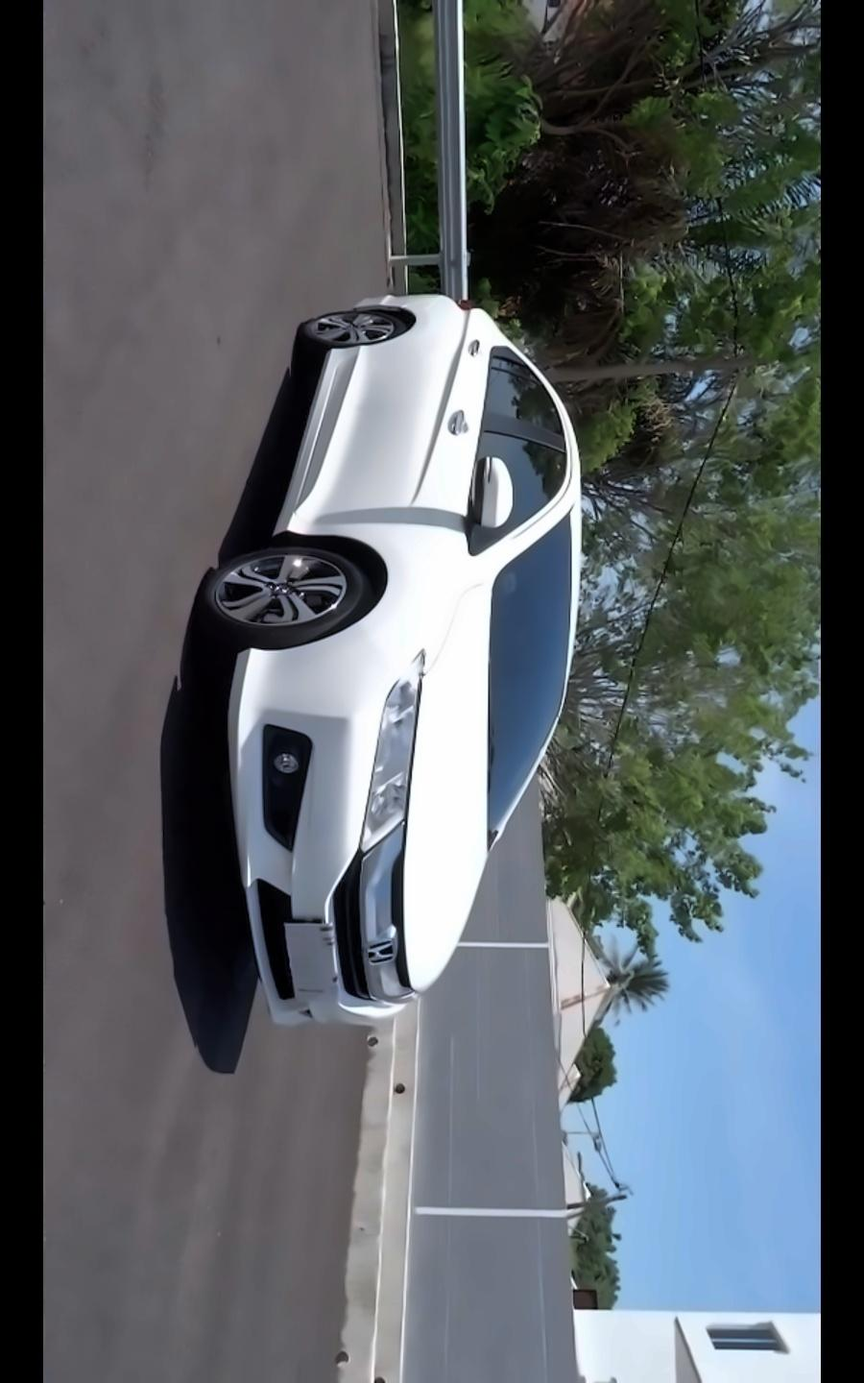Car hood: (398, 545, 496, 993)
Driver-s door - -F-R-: (246, 393, 580, 552)
Fender - -F-R-: (278, 502, 467, 687)
Fender - -R-R-: (330, 297, 505, 354)
Front bumper: (218, 620, 413, 1029)
Headlight - -R-: (352, 647, 424, 849)
Passenger-s door - -R-R-: (287, 337, 584, 448)
Side bumper - -R-: (271, 345, 374, 536)
Side mirror - -R-: (459, 450, 513, 536)
